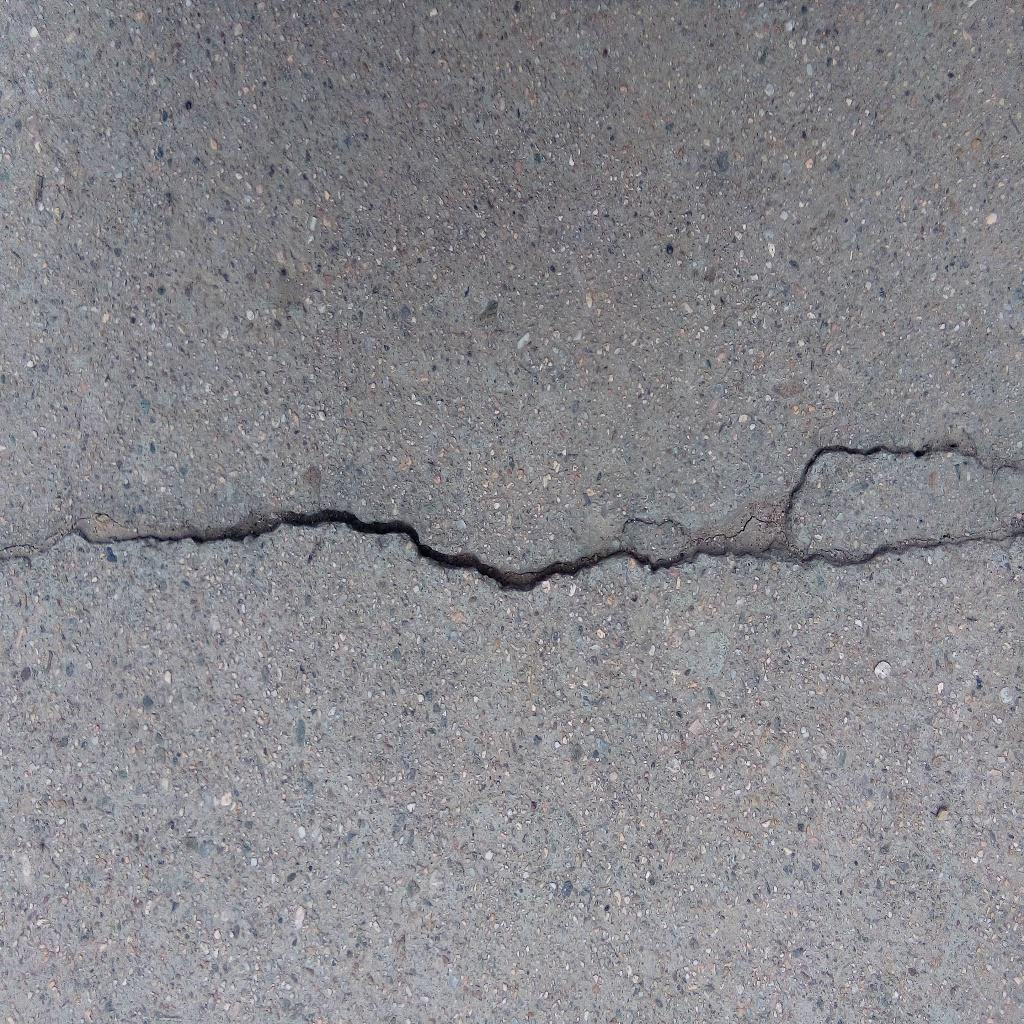Crack: (1, 507, 1024, 592), (765, 443, 1024, 552)
